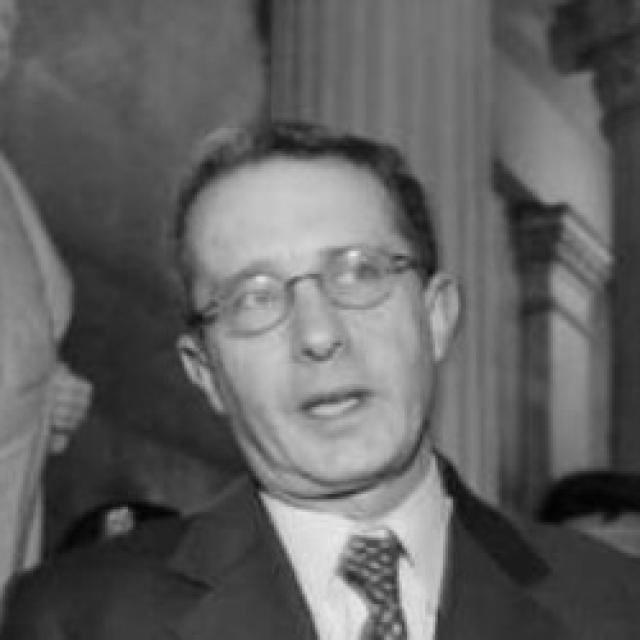real: (182, 152, 440, 496), (205, 218, 412, 322)
